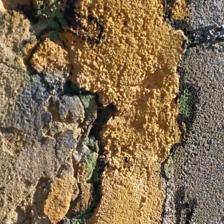Crack: (0, 47, 127, 115), (5, 25, 116, 62)
